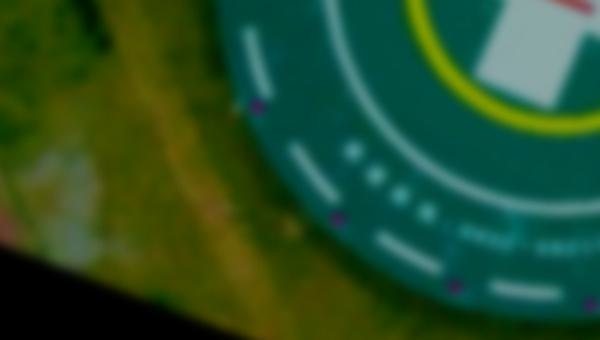Apron: (390, 1, 600, 141)
